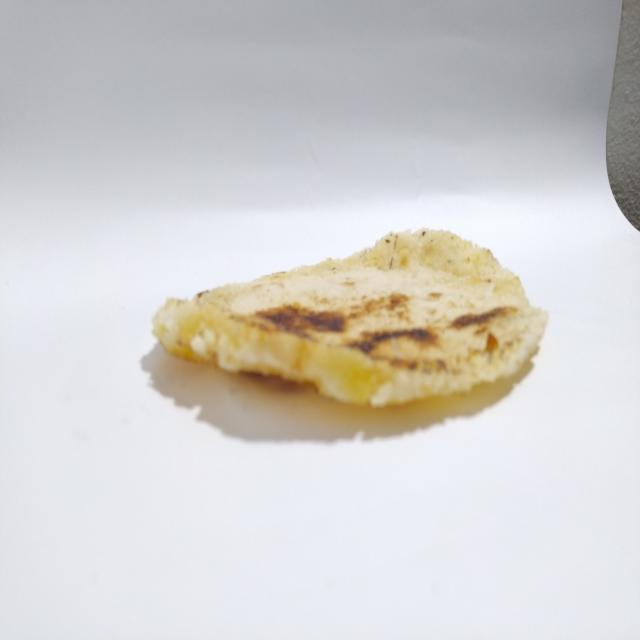Food: (139, 211, 557, 435)
